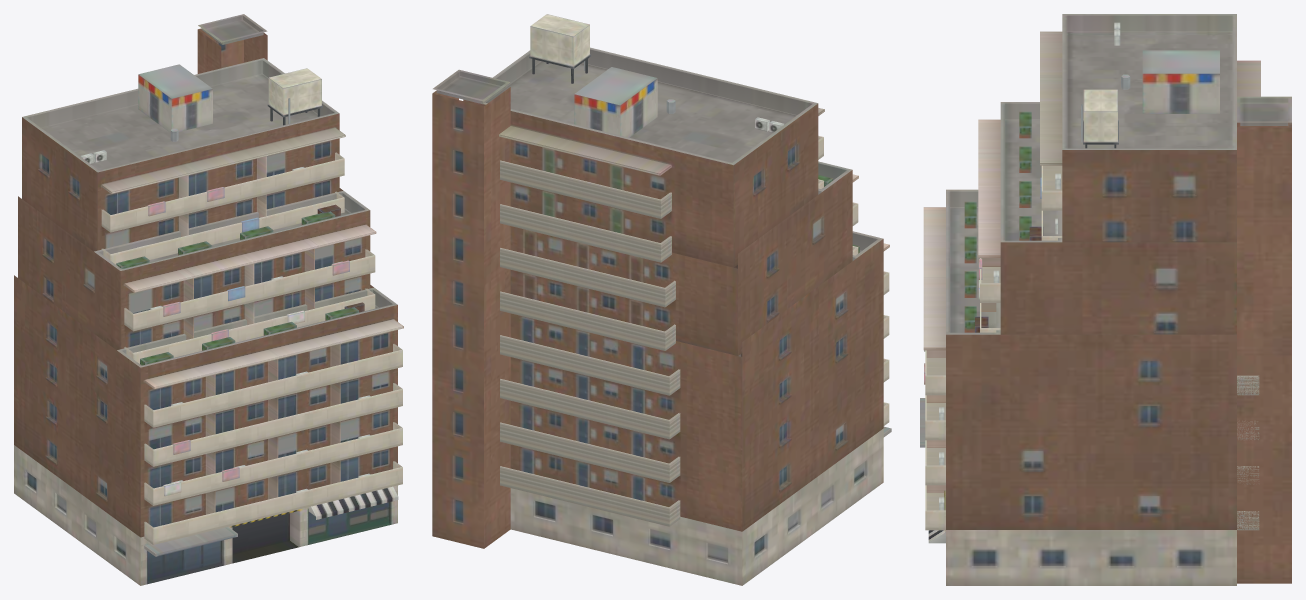
File: tokyo_apartment_c.glb
3 renders of one model, left to right at view 1: azimuth 30°, elevation 25°; view 2: azimuth 150°, elevation 25°; view 3: azimuth 270°, elevation 25°, orthographic. The views are drawn at different scales.
Parts seen in each view (by area): view 1: tokyo_apartment_c; view 2: tokyo_apartment_c; view 3: tokyo_apartment_c.
Part boxes in pixels (left/top/right/bottom): tokyo_apartment_c: left=14, top=14, right=403, bottom=585; tokyo_apartment_c: left=432, top=14, right=891, bottom=585; tokyo_apartment_c: left=920, top=14, right=1291, bottom=585.
Bounding box in the file's own units: 20.22 × 30 × 21.7.
1 material, 1 textured.
